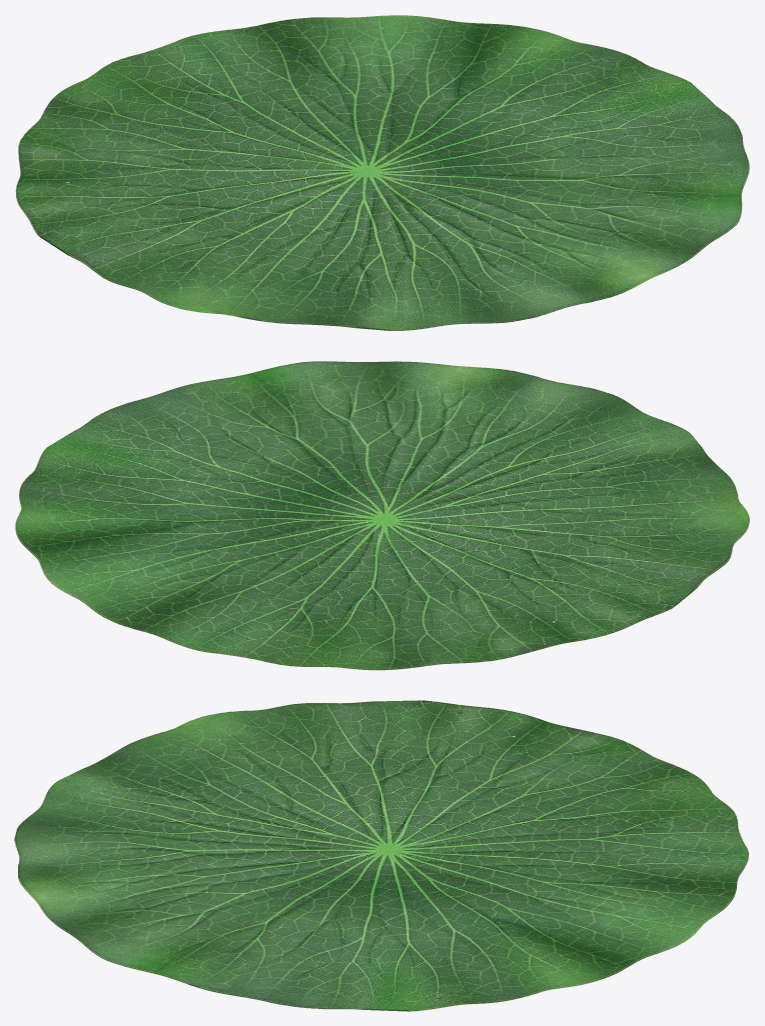
File: lotusleaf.fbx
3 renders of one model, top to bottom at view 1: azimuth 30°, elevation 25°; view 2: azimuth 150°, elevation 25°; view 3: azimuth 270°, elevation 25°, orthographic.
Parts seen in each view (by area): view 1: 立方体; view 2: 立方体; view 3: 立方体.
Part boxes in pixels (<box>): 立方体: <box>15,15,749,330</box>; 立方体: <box>15,361,749,670</box>; 立方体: <box>14,700,748,1011</box>.
Bounding box in the file's own units: 496 × 1 × 498.
Materials: 1 (1 with a texture image).
